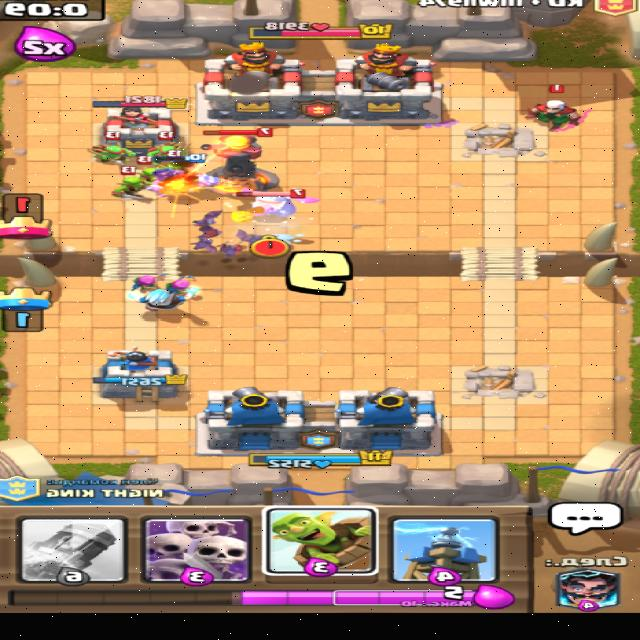Enemy-BabyDragon: (238, 186, 324, 218)
Enemy-Goblin: (111, 165, 155, 200), (156, 148, 186, 170), (136, 155, 161, 178)
Enemy-InfernoTower: (195, 126, 283, 193)
Enemy-MagicArcher: (526, 82, 595, 132), (132, 272, 169, 290)
Enemy-SpearGoblin: (88, 130, 139, 164), (144, 130, 194, 156)
Player-Archer: (166, 274, 201, 293)
Player-Bat: (191, 227, 225, 252), (236, 228, 282, 246), (192, 209, 227, 227), (218, 240, 243, 258)
Player-IceWizard: (126, 286, 202, 311)
